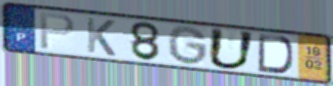8: (128, 21, 161, 62)
D: (256, 33, 296, 75)
G: (166, 24, 210, 67)
K: (84, 16, 118, 58)
P: (38, 11, 77, 51)
U: (205, 26, 258, 71)
